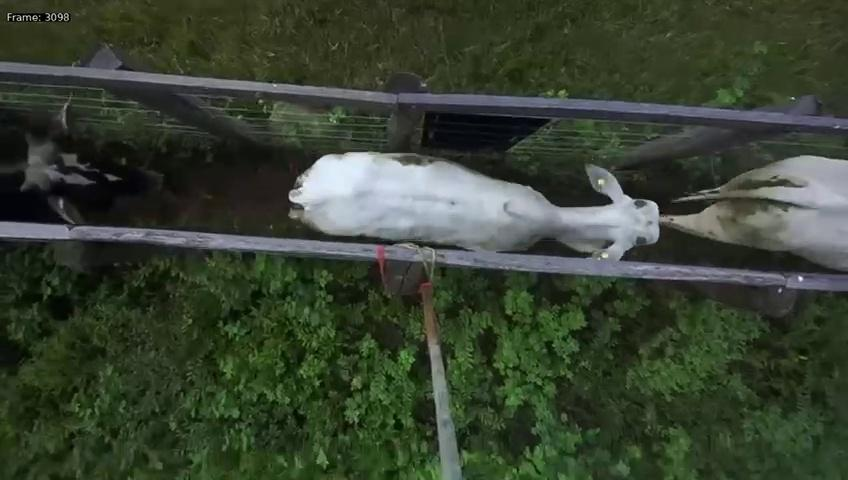cattle: (275, 145, 660, 271)
